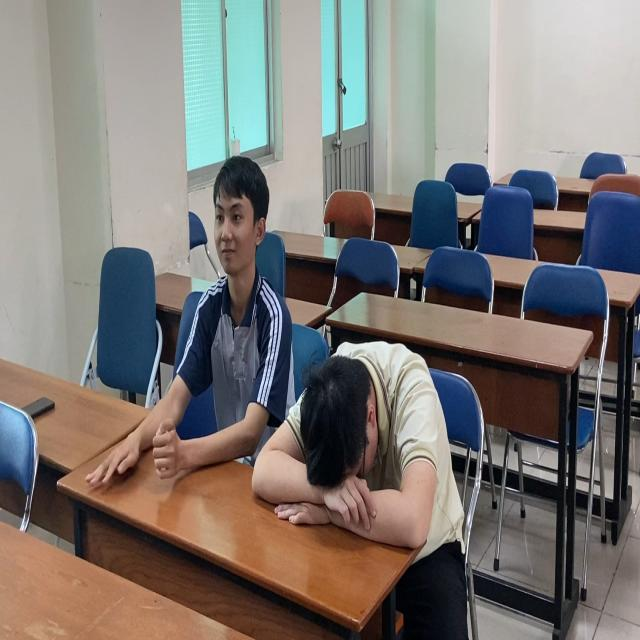sleep: (253, 333, 468, 556)
